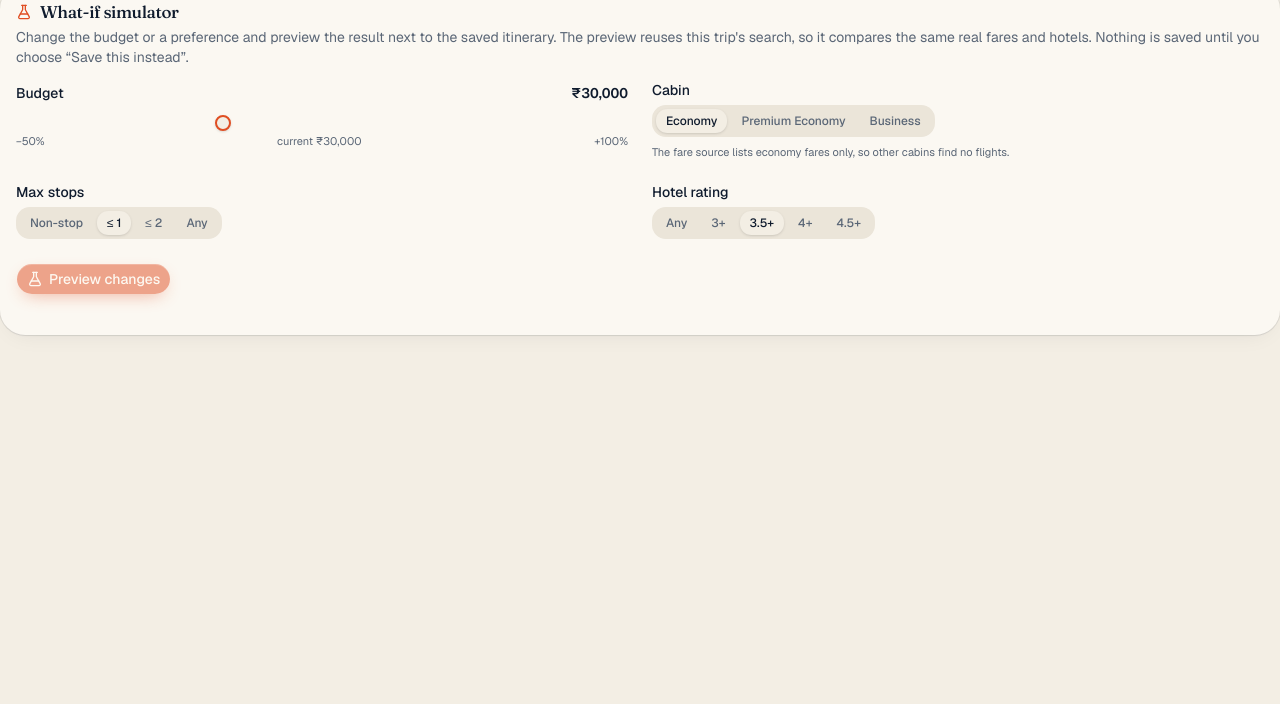
Test: ServerWhatIf › can't save a preview on a decided trip
Click the radio button labelled "Non-stop" at (56, 223), box [20,211,93,235]
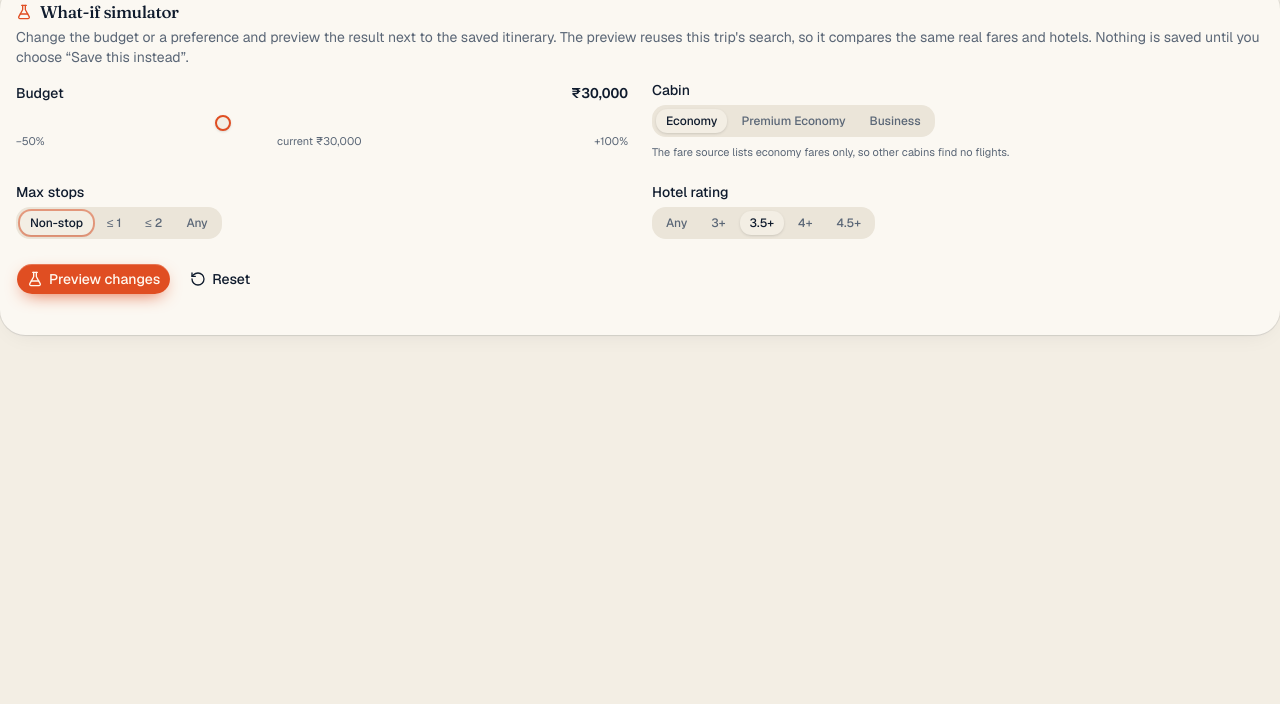
Click the button "Preview changes" at (94, 279), box [16,263,171,295]
(page scrolled)
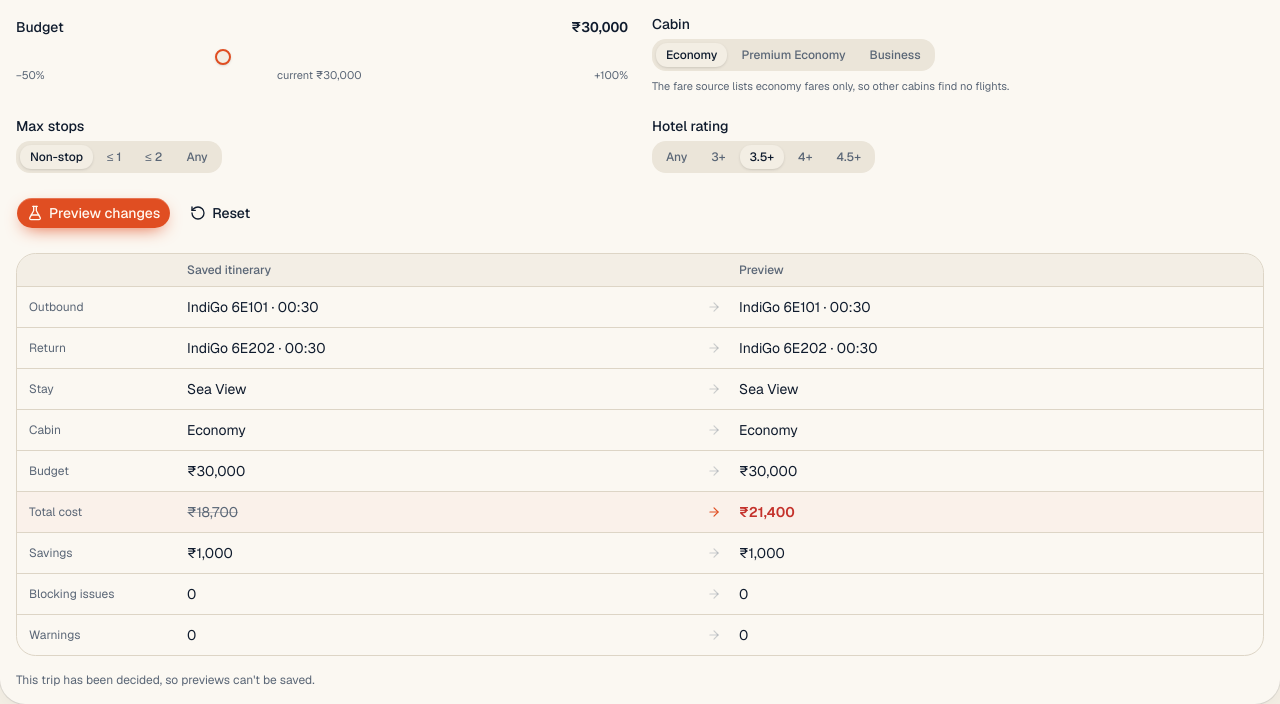
Now the text "This trip has been decided, so previews can't be saved." is shown, box [16,672,315,688]
